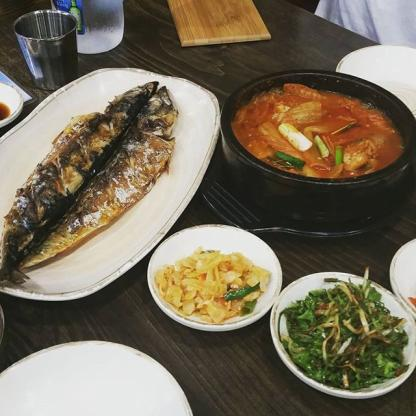Peixe: (0, 79, 196, 291)
